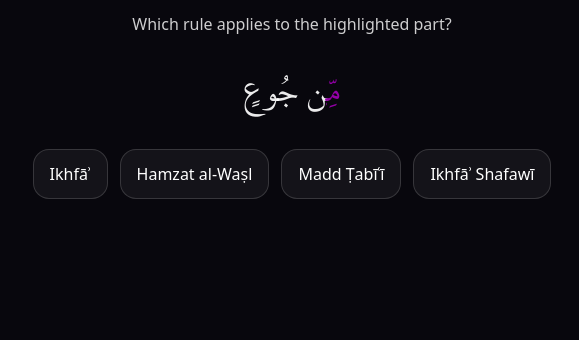
Test case: RuleIdentifier › states the result in words, not colour alone, in a live region
Click the button "Ikhfāʾ": click(70, 174) [32,149,108,199]
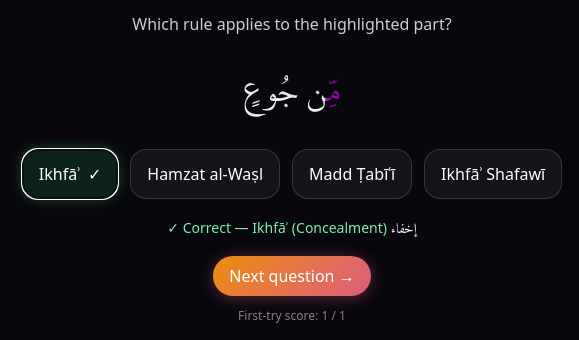
Expected: the element showing "✓ Correct — Ikhfāʾ (Concealment) إخفاء" is shown, [167,217,417,242]
